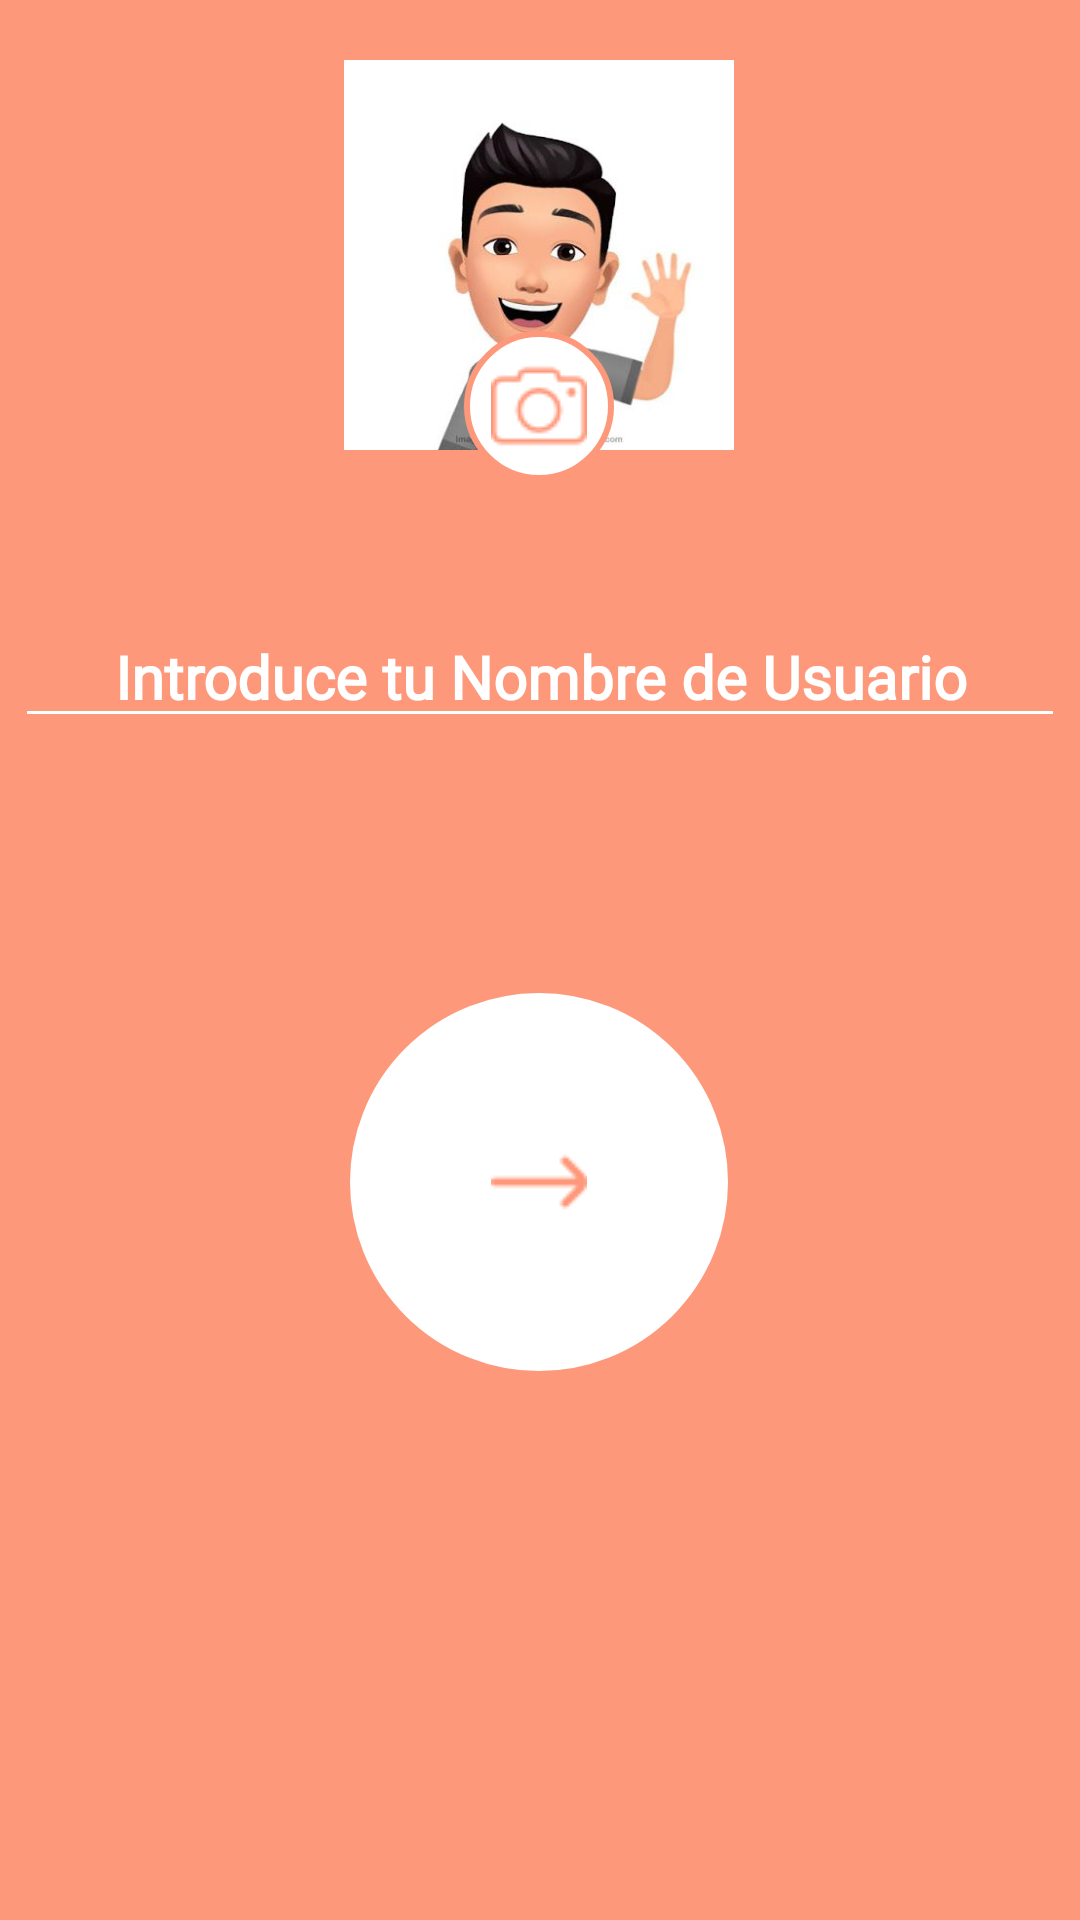

Icon click points for this 1080 × 1920 phone screenshot, format [x,y]:
camara: [539,406]
